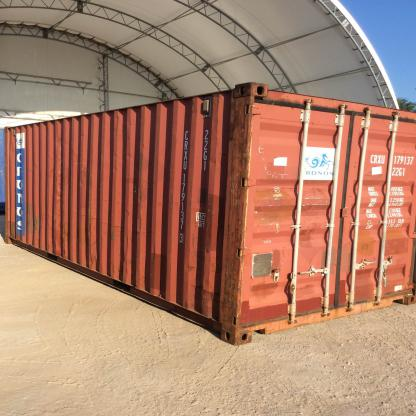Damage: (214, 95, 255, 331), (52, 132, 72, 262), (83, 163, 99, 271), (121, 206, 136, 286), (137, 140, 145, 272), (184, 280, 213, 316), (102, 218, 122, 240), (309, 183, 333, 201), (348, 158, 362, 180), (28, 158, 38, 174), (186, 260, 198, 272), (124, 145, 132, 161), (76, 130, 86, 142)
